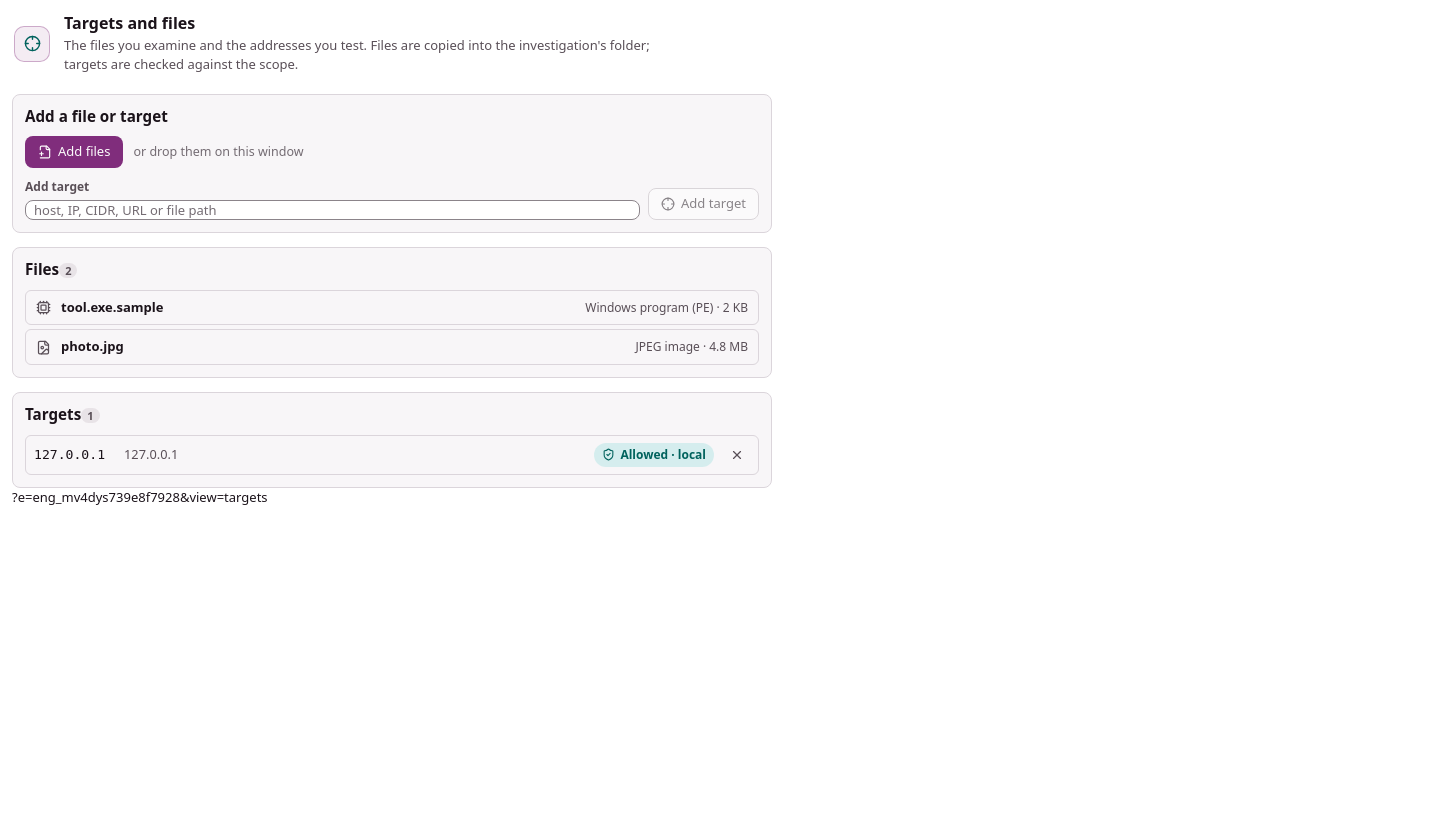
it: targets and files › lists the files and targets, and a selected file shows its card
This screenshot has width=1452, height=822.
Expected: the text "2" is shown, top-left (59, 263), bottom-right (77, 278)
Expected: the 1st text "127.0.0.1" is shown, top-left (34, 445), bottom-right (114, 465)
Click the button "photo.jpg JPEG image · 4.8 MB". click: (92, 346)
box: top-left (25, 329), bottom-right (759, 365)
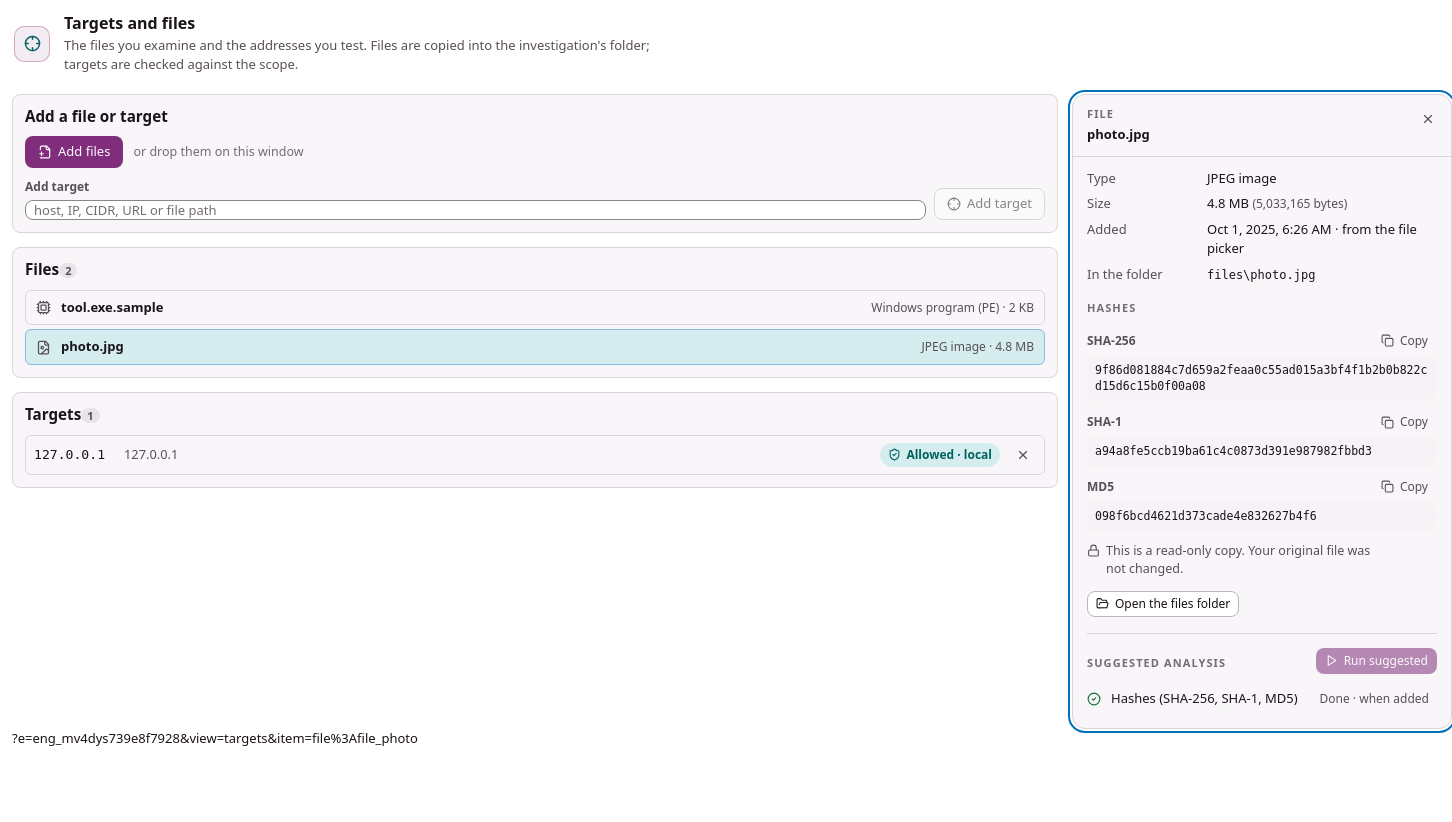
Expected: the 1st text "photo.jpg" is shown, top-left (1087, 125), bottom-right (1150, 143)
Expected: the text "JPEG image" is shown, top-left (1207, 169), bottom-right (1277, 187)
Expected: the text "4.8 MB" is shown, top-left (1207, 194), bottom-right (1249, 212)
